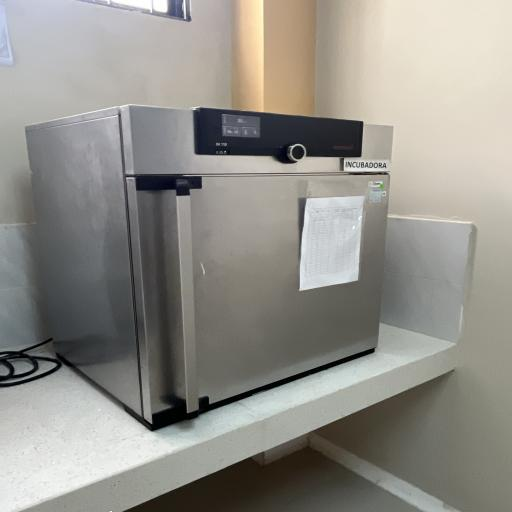Incubadora: (17, 94, 411, 441)
